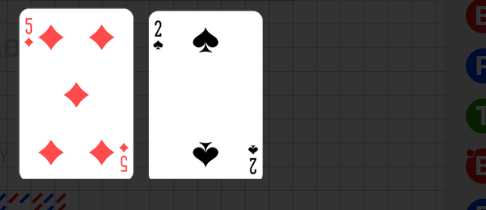2S: (246, 142, 260, 175)
9D: (118, 141, 130, 174)
